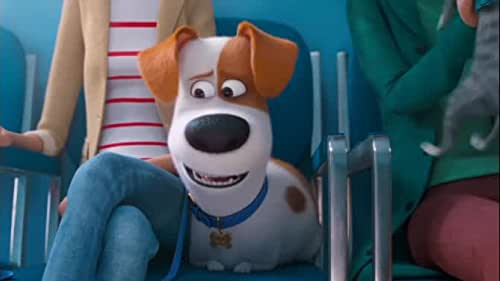pet: (132, 43, 322, 230)
